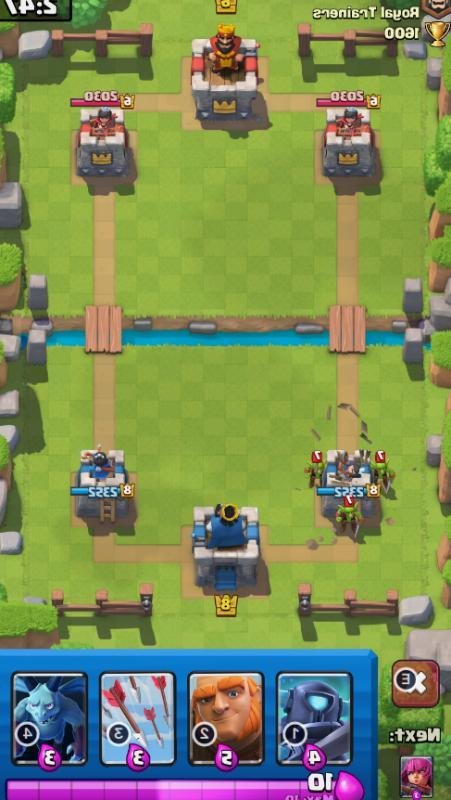enemy_goblins: (331, 493, 366, 540), (369, 449, 397, 486), (301, 448, 329, 485)
